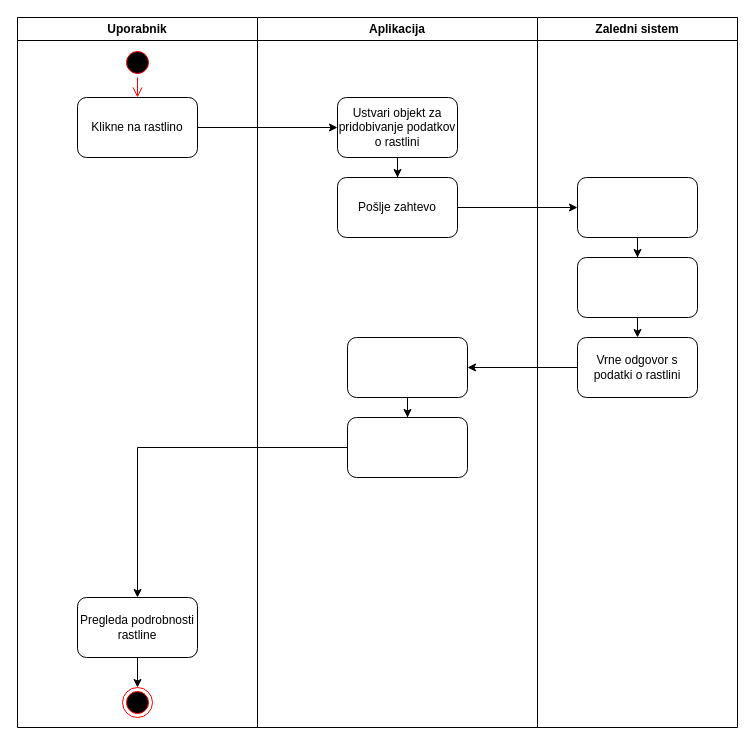
This 755x745 diagram has some shape labels left out. Each missing label, with the centre of its shape:
"Prejme odgovor" goes at point (407, 367).
"Prejme zahtevek" goes at point (637, 207).
"Preusmeri na zaslon za podrobnosti rastline" goes at point (407, 447).
"Pridobi podatke o rastlini" goes at point (637, 287).
